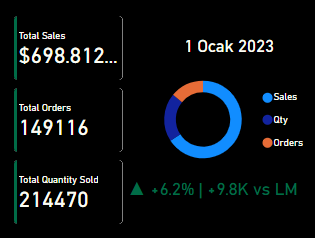

The page's visual inventory and layout, read from the dashboard file:
{"tool":"powerbi","page":{"name":"Tool Tip - Calendar","canvas":[320,240],"ordinal":1},"visuals":[{"type":"cardVisual","fields":{"Data":["Transaction.Total Sales","Transaction.Total Orders","Transaction.Total Quantity Sold"]},"box":[0,0,141.2,240],"z":0},{"type":"donutChart","fields":{"Y":["Transaction.Total Sales","Transaction.Total Quantity Sold","Transaction.Total Orders"]},"box":[141,66,179,107],"z":1000},{"type":"card","fields":{"Values":["Min(Date Table.Date)"]},"box":[151,32,160,25],"z":2000},{"type":"card","fields":{"Values":["Transaction.MoM Growth & Diff Sales"]},"box":[109,173,211,33],"z":3000}]}

Visuals, with their boxes in screenshot pixels (x1, y1, x2, y2), scaled from the page's 320x240 canvas onto the 315x238 screenshot:
cardVisual - Transaction.Total Sales x Transaction.Total Orders: [x1=0, y1=0, x2=139, y2=237]
donutChart - Transaction.Total Sales x Transaction.Total Quantity Sold: [x1=139, y1=65, x2=314, y2=172]
card - Min(Date Table.Date): [x1=149, y1=32, x2=306, y2=57]
card - Transaction.MoM Growth & Diff Sales: [x1=107, y1=172, x2=314, y2=204]
